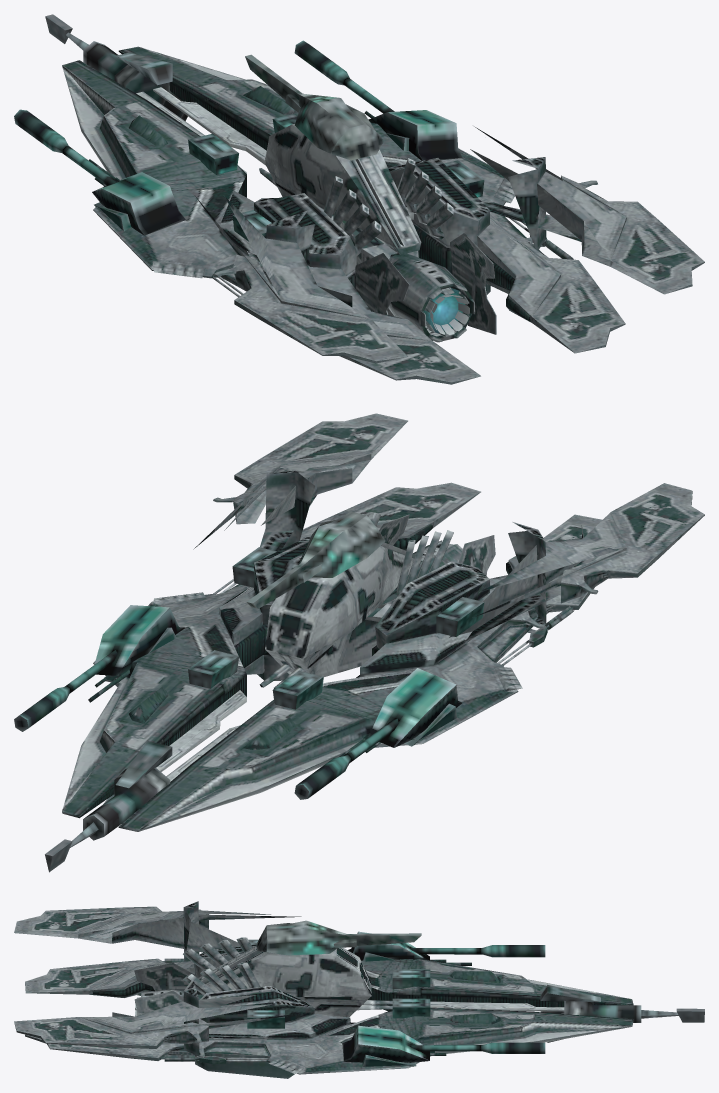
Rendered from leonov.glb.
3 views of the same model, one above another, from view 1: azimuth 30°, elevation 25°; view 2: azimuth 150°, elevation 25°; view 3: azimuth 270°, elevation 25° (orthographic). The views are drawn at different scales.
Visible parts, largest first — view 1: main; view 2: main; view 3: main.
Part boxes in pixels (x1,y1,x2,y2): main: [14, 14, 704, 384]; main: [14, 413, 704, 872]; main: [14, 901, 704, 1078].
Size of the model in its own units: 56.01 by 24.03 by 117.
Materials: 1 (1 with a texture image).
